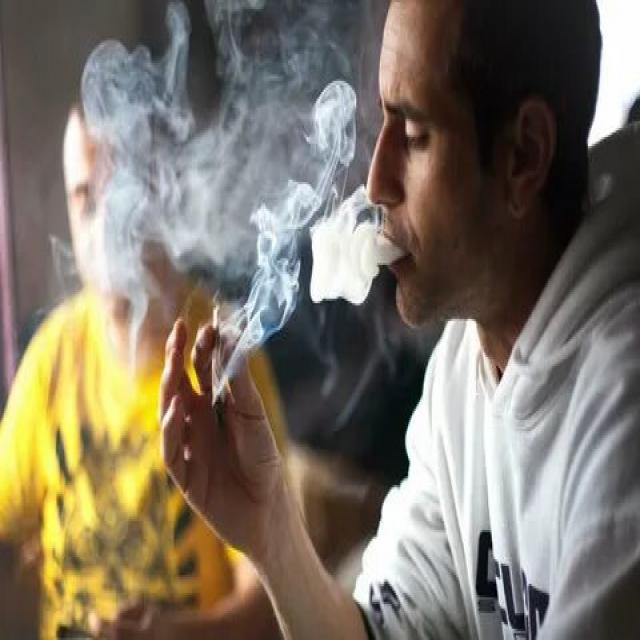smoke: (208, 303, 225, 416)
